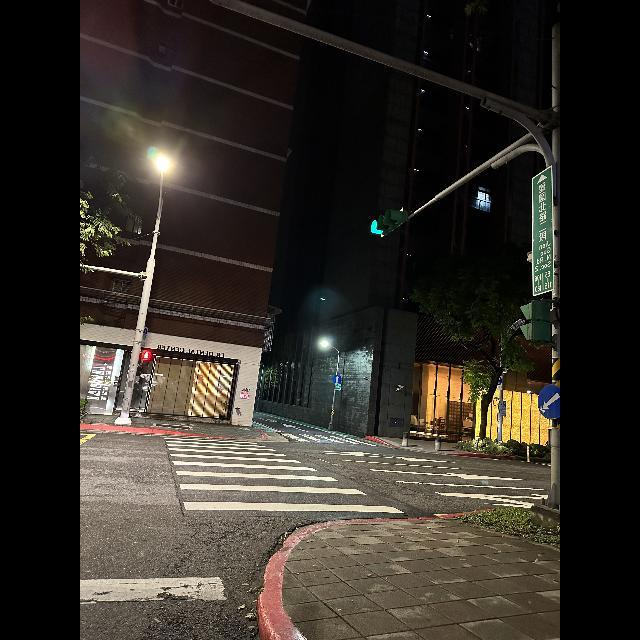sidewalk: (155, 427, 415, 520)
